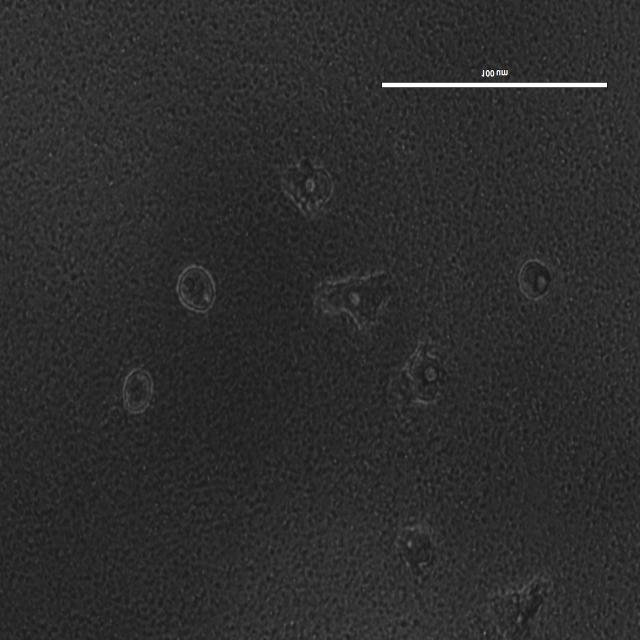Amoeba: (317, 264, 398, 328), (479, 573, 556, 636), (279, 154, 335, 212), (404, 344, 446, 404), (394, 525, 438, 578), (177, 264, 214, 316), (518, 254, 555, 302), (124, 368, 154, 413)
